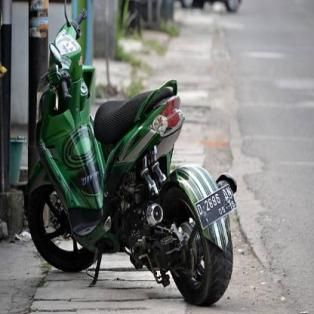Motocicleta: (17, 0, 244, 313)
